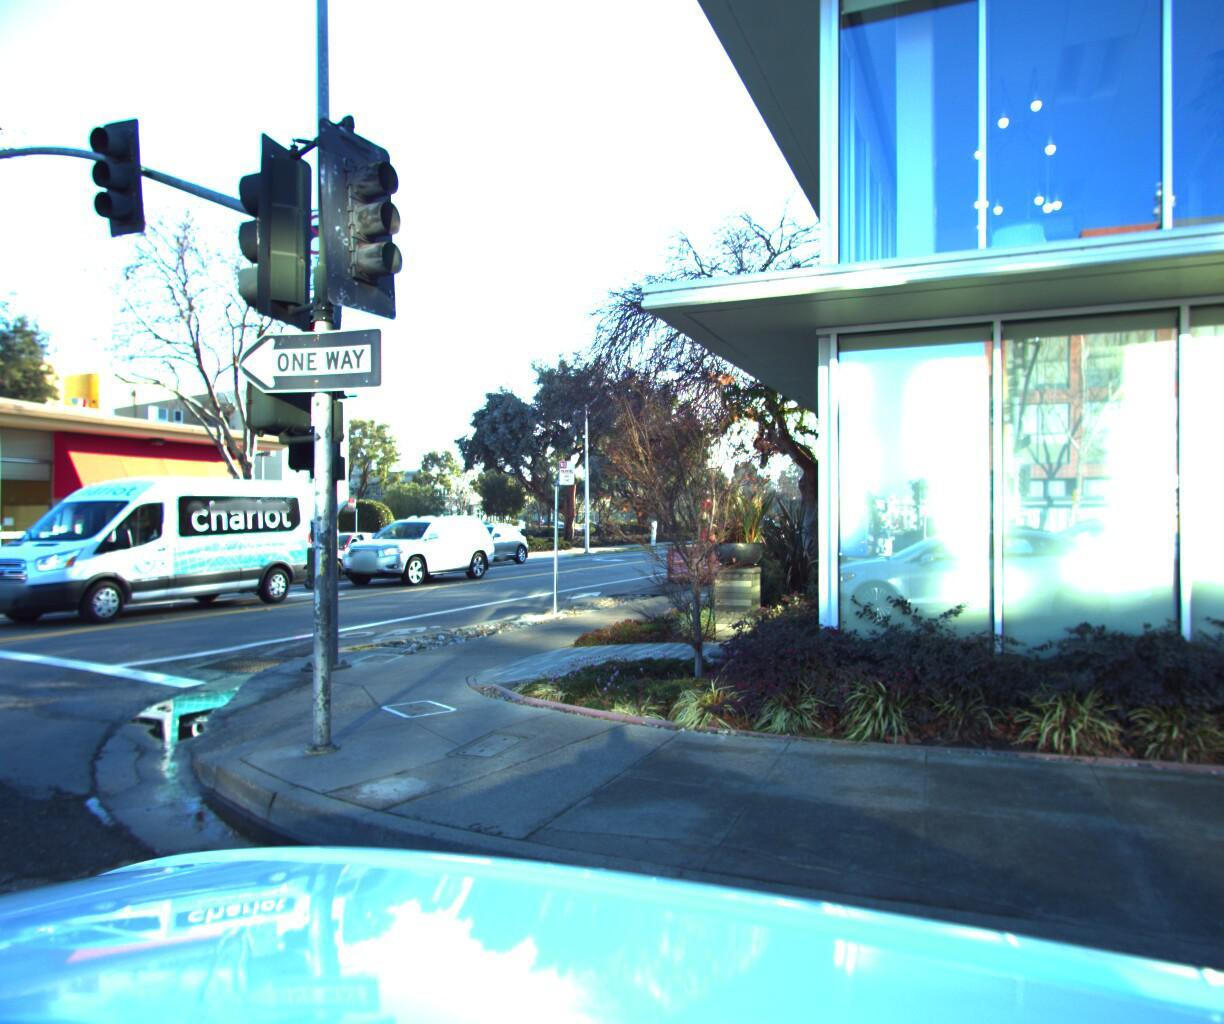car: (0, 461, 333, 635), (325, 507, 499, 587), (262, 522, 409, 584), (441, 507, 551, 559)
